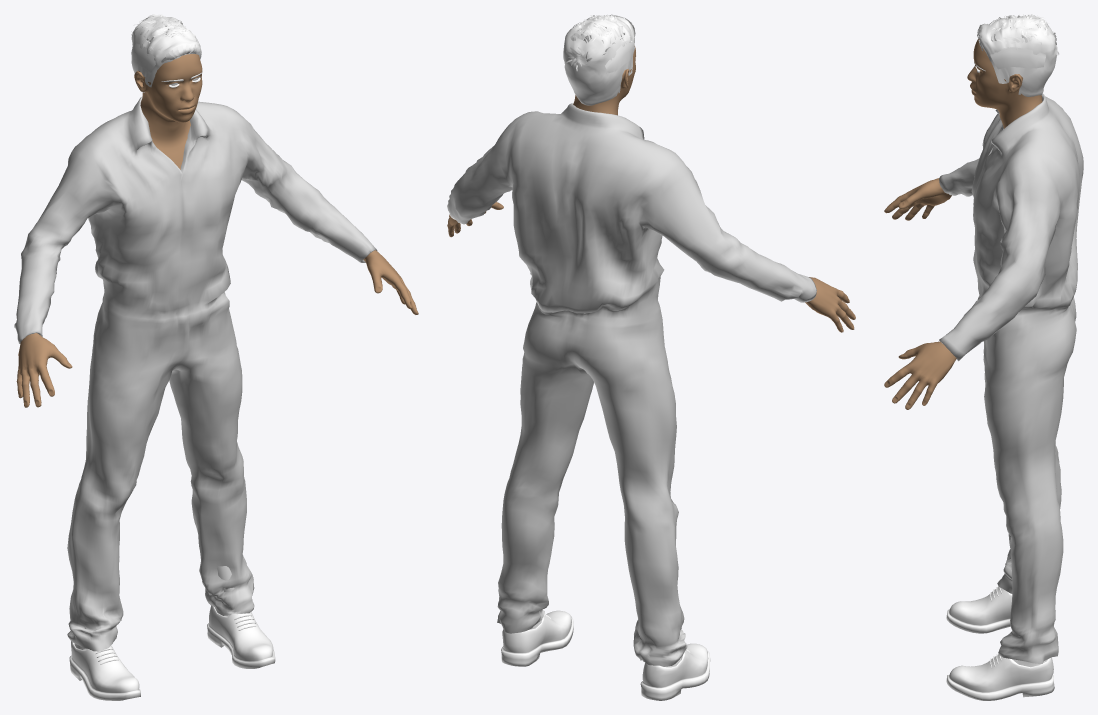
The model's file is human.obj.
3 renders of one model, left to right at view 1: azimuth 30°, elevation 25°; view 2: azimuth 150°, elevation 25°; view 3: azimuth 270°, elevation 25°, orthographic. The views are drawn at different scales.
Visible parts, largest first — view 1: Human.male_casualsuit01, Human.001, Human.shoes03, Human.short01; view 2: Human.male_casualsuit01, Human.short01, Human.shoes03, Human.001; view 3: Human.male_casualsuit01, Human.001, Human.shoes03, Human.short01.
Boxes of the visible parts, bbox=[...] form: Human.male_casualsuit01: bbox=[14, 96, 377, 651]; Human.001: bbox=[16, 54, 418, 407]; Human.shoes03: bbox=[69, 566, 275, 700]; Human.short01: bbox=[131, 14, 201, 92]; Human.male_casualsuit01: bbox=[447, 103, 816, 666]; Human.short01: bbox=[563, 14, 635, 105]; Human.shoes03: bbox=[501, 610, 710, 700]; Human.001: bbox=[447, 46, 855, 332]; Human.male_casualsuit01: bbox=[939, 94, 1083, 663]; Human.001: bbox=[884, 39, 1042, 409]; Human.shoes03: bbox=[946, 587, 1054, 700]; Human.short01: bbox=[977, 14, 1058, 96].
Size of the model in its own units: 1.13 by 1.77 by 0.5001.
